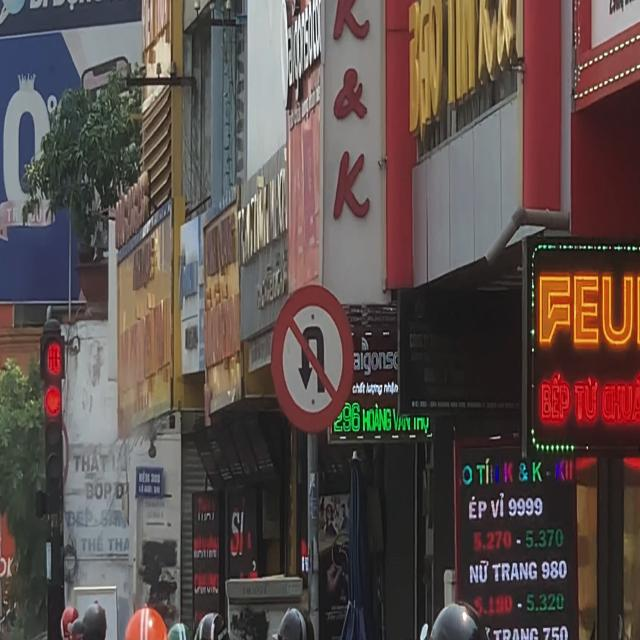Cam quay dau xe: (270, 280, 356, 435)
